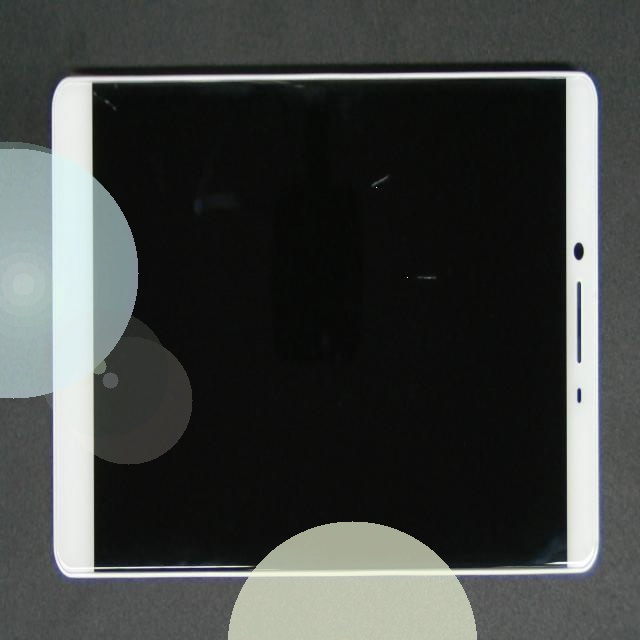scratch: (207, 150, 624, 450), (157, 96, 550, 291)
